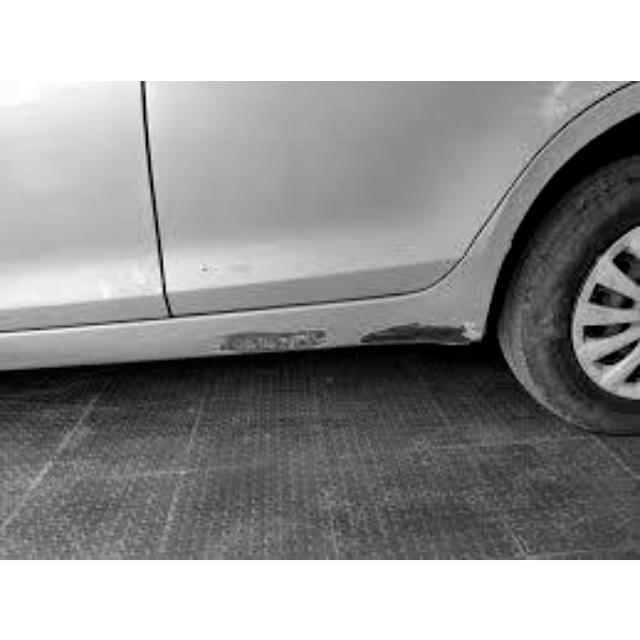Runningboard-Damage: (94, 306, 360, 367), (265, 300, 484, 364)
